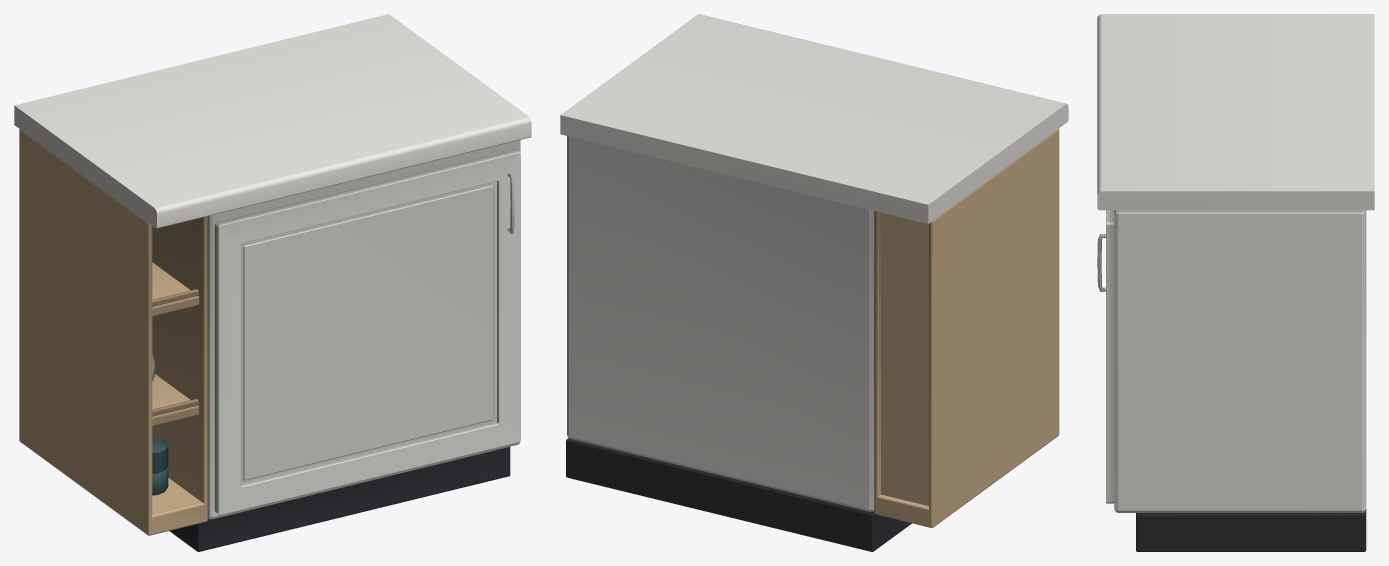
File: counterEnd.glb
3 renders of one model, left to right at view 1: azimuth 30°, elevation 25°; view 2: azimuth 150°, elevation 25°; view 3: azimuth 270°, elevation 25°, orthographic. The views are drawn at different scales.
Visible parts, largest first — view 1: body; view 2: body; view 3: body.
Part boxes in pixels (bbox=[...]): body: bbox=[14, 14, 531, 551]; body: bbox=[560, 14, 1068, 551]; body: bbox=[1097, 14, 1374, 551].
Bounding box in the file's own units: 1 × 0.95 × 0.6602.
